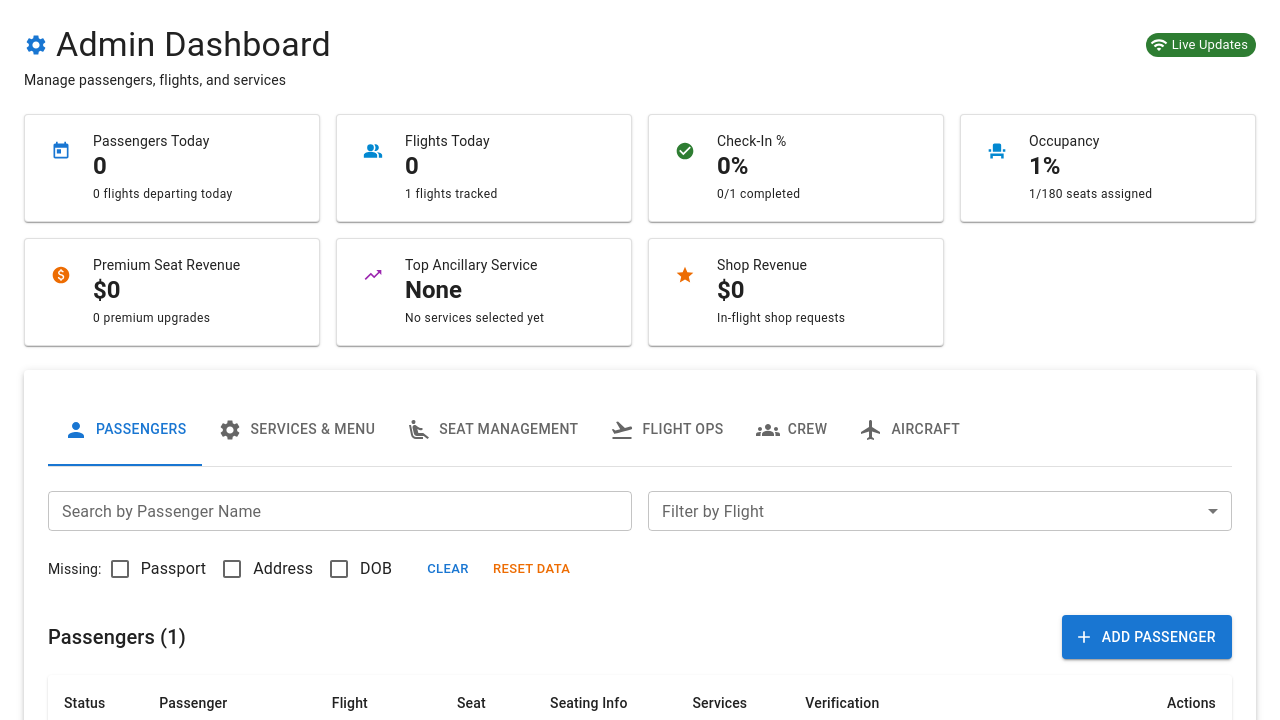
Scenario: AdminDashboard › Delete Operations › should show confirmation dialog when deleting service
Click the tab "Services & Menu" at (297, 430), box [202,394,391,466]
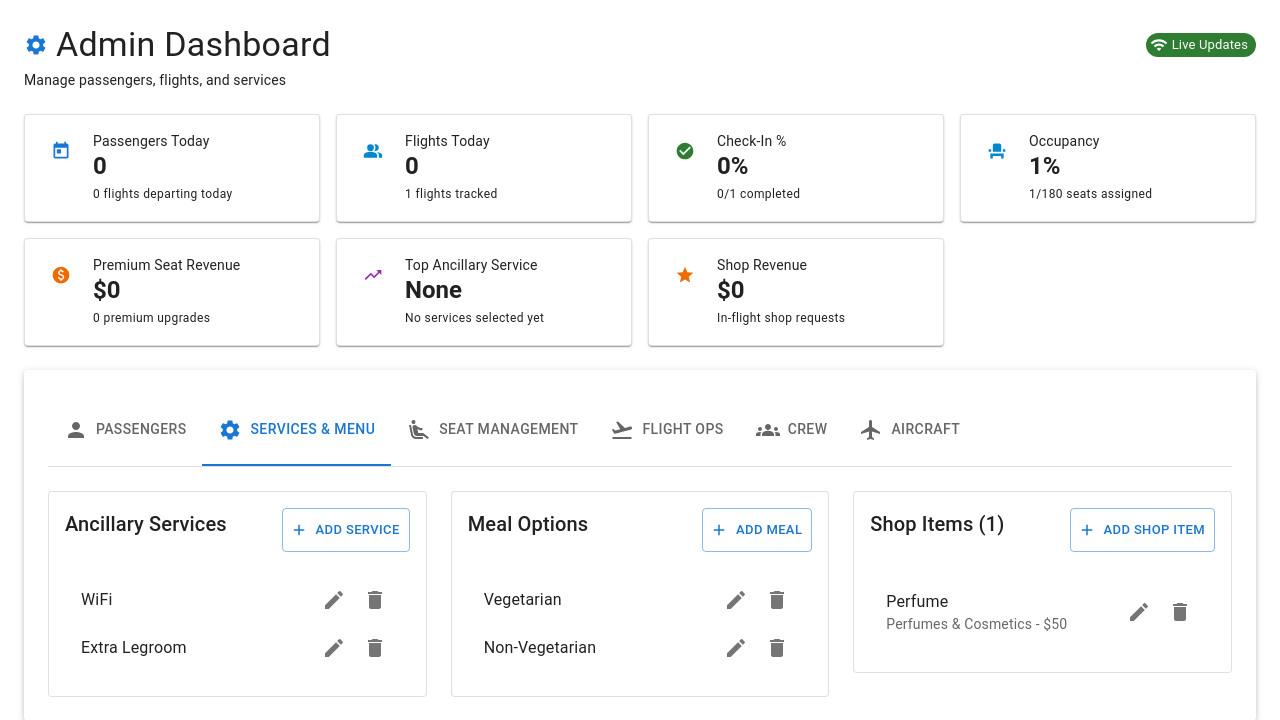
Click the button named "delete" at (375, 600), box [353,578,397,622]
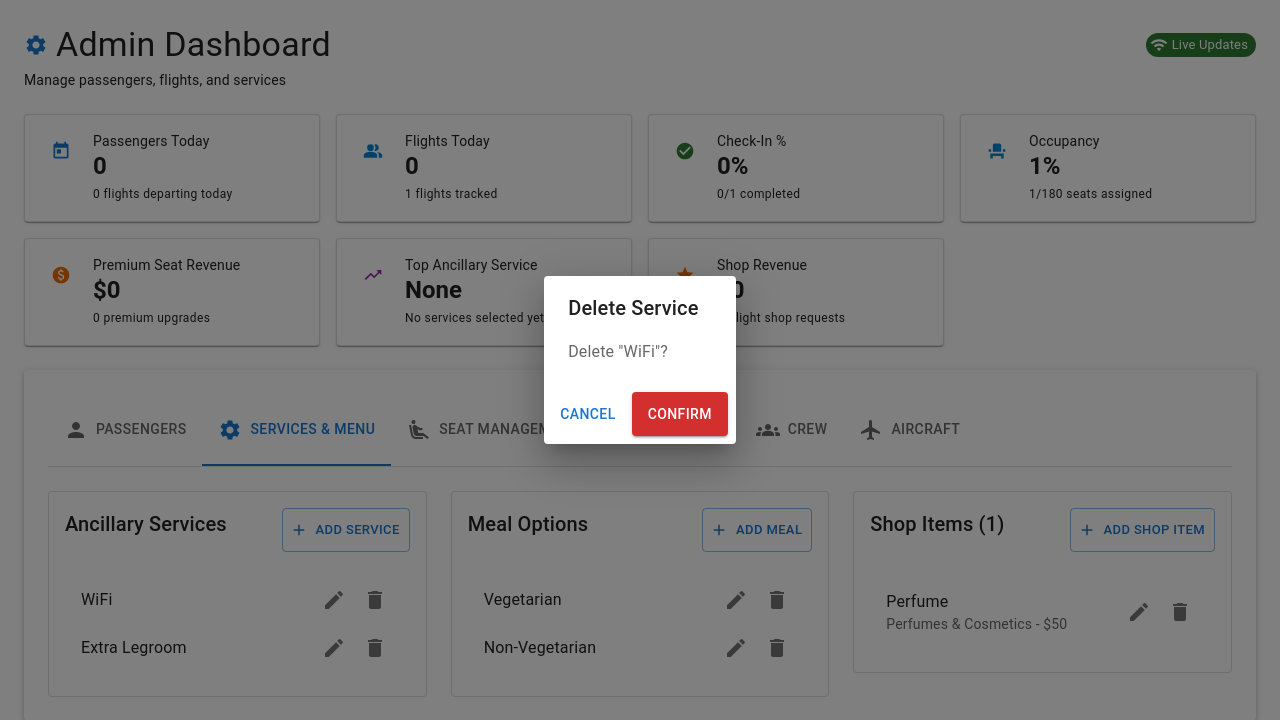
Expected: the heading "Delete Service" is shown, [568,296,699,320]
